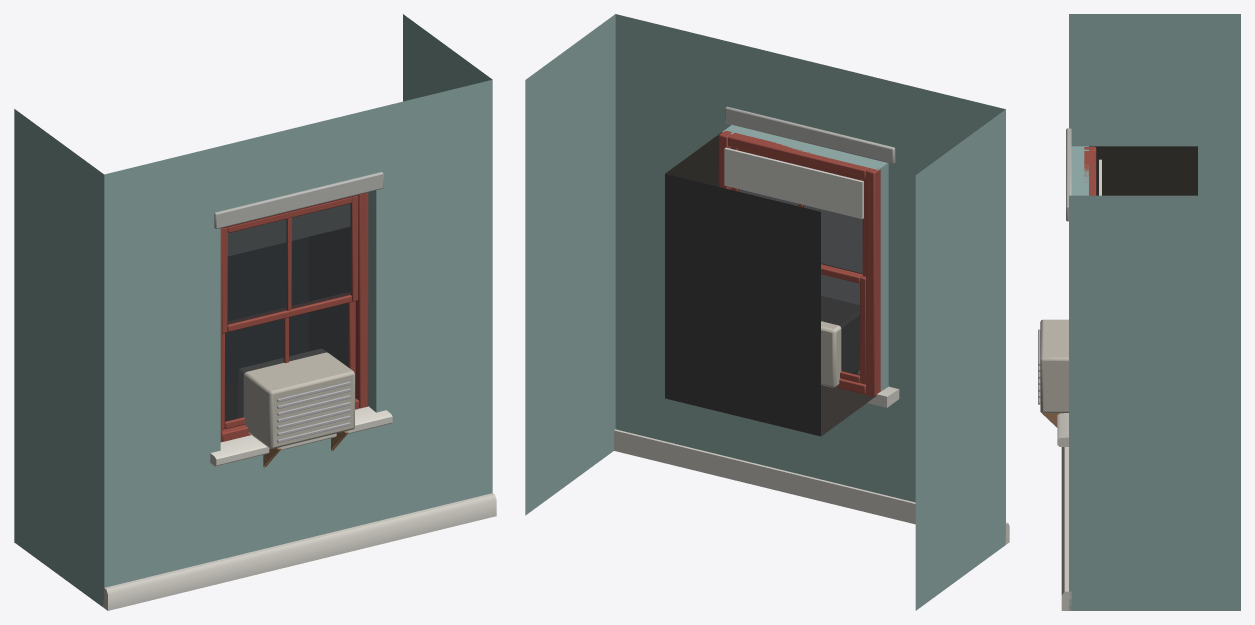
Rendered from upper_3e.glb.
3 renders of one model, left to right at view 1: azimuth 30°, elevation 25°; view 2: azimuth 150°, elevation 25°; view 3: azimuth 270°, elevation 25°, orthographic. The views are drawn at different scales.
Parts seen in each view (by area): view 1: upper_3e; view 2: upper_3e; view 3: upper_3e.
Boxes of the visible parts, x1,y1,x2,y2 form: upper_3e: [14, 14, 496, 610]; upper_3e: [525, 14, 1009, 610]; upper_3e: [1038, 14, 1240, 610].
Size of the model in its own units: 3 by 3.2 by 1.42.
